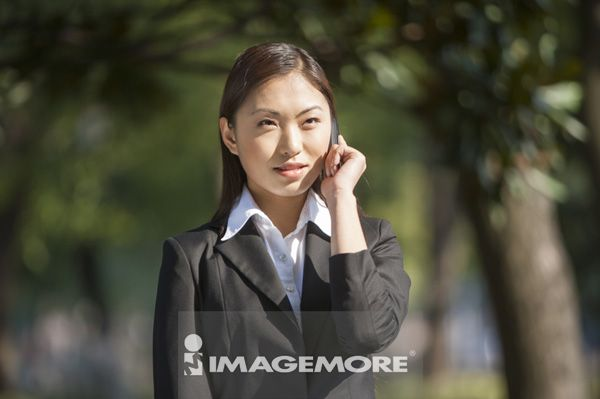talk: (242, 99, 365, 221)
